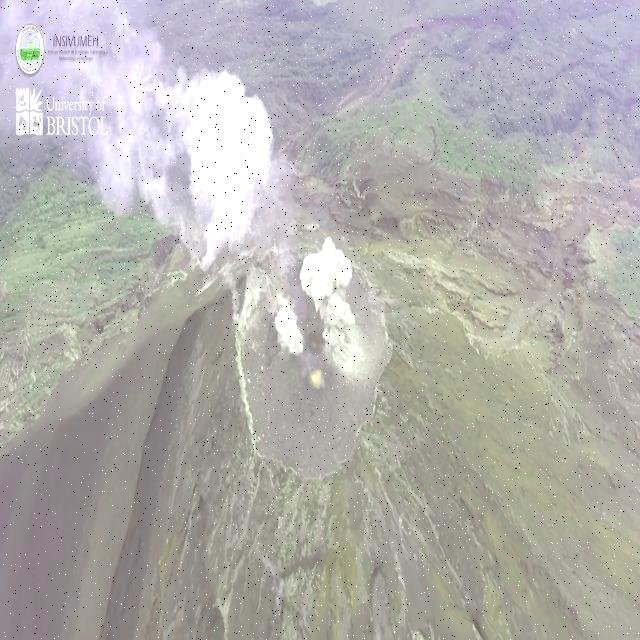Plume: (44, 1, 276, 267), (298, 226, 363, 368), (274, 302, 302, 359)
Summit: (189, 228, 408, 500)
